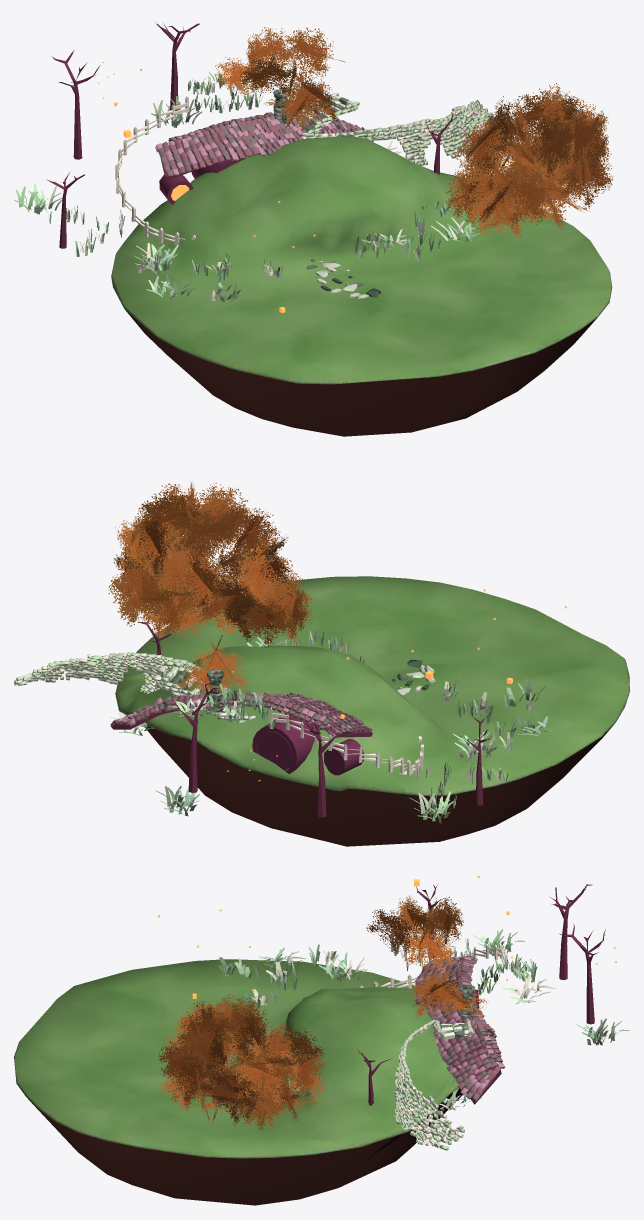
File: hobbit-house.glb
3 views of the same model, one above another, from view 1: azimuth 30°, elevation 25°; view 2: azimuth 150°, elevation 25°; view 3: azimuth 270°, elevation 25° (orthographic). The views are drawn at different scales.
Visible parts, largest first — view 1: Terrain_Terrain_top_mat_0, Trees_bush 1_0, Terrain_Terrain_bottom_mat_0, Doors and Windows_Texture Material_0, Flat Grass_Final Grass_0, Stairs_Bricks_0; view 2: Terrain_Terrain_top_mat_0, Trees_bush 1_0, Terrain_Terrain_bottom_mat_0, Doors and Windows_Texture Material_0, Flat Grass_Final Grass_0, Stairs_Bricks_0; view 3: Terrain_Terrain_top_mat_0, Trees_bush 1_0, Terrain_Terrain_bottom_mat_0, Doors and Windows_Texture Material_0, Flat Grass_Final Grass_0, Stairs_Bricks_0.
Part boxes in pixels (x1,y1,x2,y2): Terrain_Terrain_top_mat_0: (111, 136, 612, 384); Trees_bush 1_0: (215, 27, 613, 238); Terrain_Terrain_bottom_mat_0: (125, 310, 597, 436); Doors and Windows_Texture Material_0: (46, 23, 453, 298); Flat Grass_Final Grass_0: (14, 67, 480, 301); Stairs_Bricks_0: (293, 92, 496, 165); Terrain_Terrain_top_mat_0: (115, 576, 629, 795); Trees_bush 1_0: (108, 481, 313, 696); Terrain_Terrain_bottom_mat_0: (125, 714, 614, 846); Doors and Windows_Texture Material_0: (110, 616, 491, 817); Flat Grass_Final Grass_0: (110, 631, 552, 823); Stairs_Bricks_0: (14, 652, 255, 723); Terrain_Terrain_top_mat_0: (14, 959, 493, 1158); Trees_bush 1_0: (157, 895, 488, 1130); Terrain_Terrain_bottom_mat_0: (28, 1088, 462, 1205); Doors and Windows_Texture Material_0: (257, 884, 605, 1105); Flat Grass_Final Grass_0: (218, 929, 629, 1110); Stairs_Bricks_0: (394, 1019, 473, 1150).
Size of the model in its own units: 13.83 by 8.08 by 16.47.
6 materials, 5 textured.
